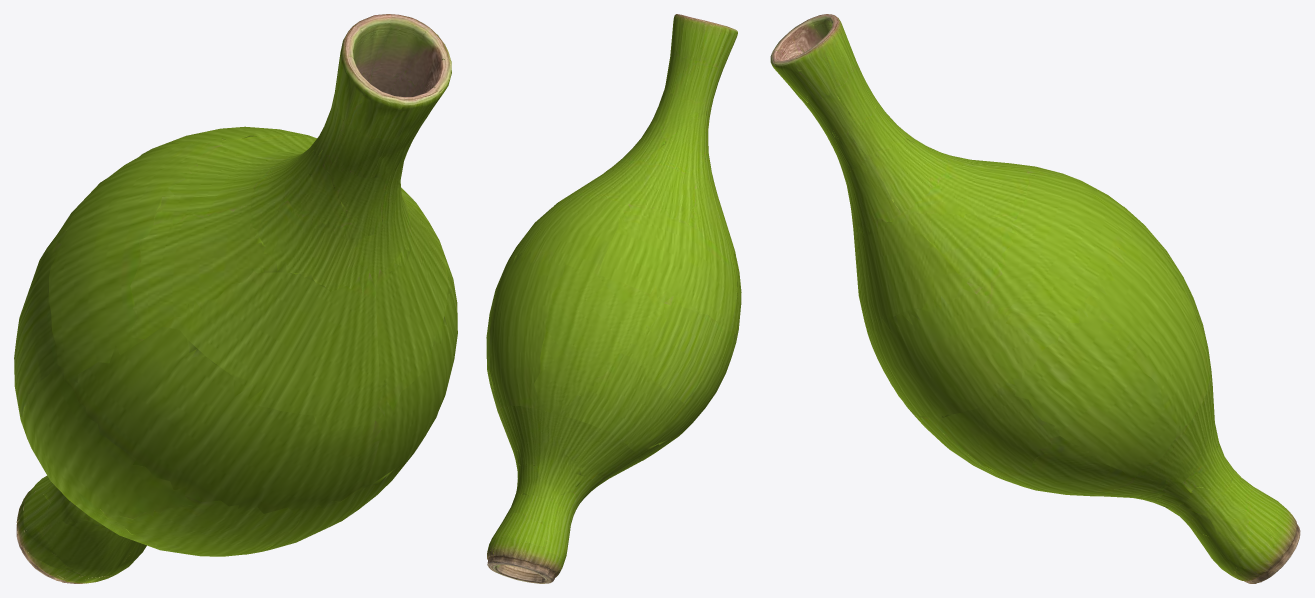
The model's file is petiole_whole.glb.
The picture shows the model from 3 angles, left to right: view 1: azimuth 30°, elevation 25°; view 2: azimuth 150°, elevation 25°; view 3: azimuth 270°, elevation 25°; orthographic projection. The views are drawn at different scales.
Parts seen in each view (by area): view 1: Mesh_0; view 2: Mesh_0; view 3: Mesh_0.
Part boxes in pixels (bbox=[...]): Mesh_0: bbox=[14, 14, 457, 583]; Mesh_0: bbox=[486, 14, 741, 583]; Mesh_0: bbox=[770, 14, 1300, 583].
Size of the model in its own units: 1.01 by 2 by 1.73.
Materials: 1 (1 with a texture image).
